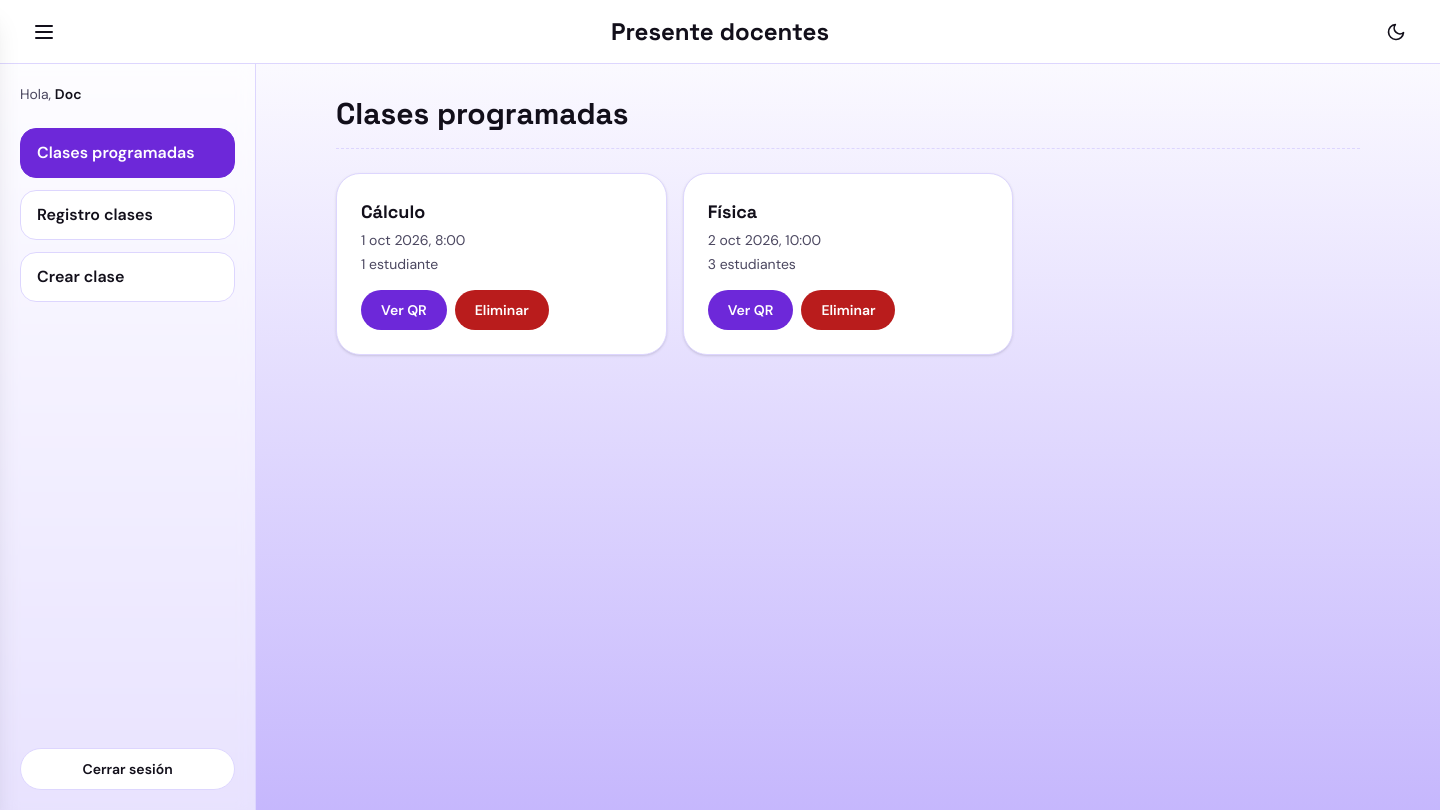
Test: PanelDocente › muestra la asistencia de una clase y permite volver
Check: the heading "Cálculo" is shown, box 361,200 -> 425,223
Step 1. Click the button "Registro clases" → click(128, 215), box 20,190 -> 235,240
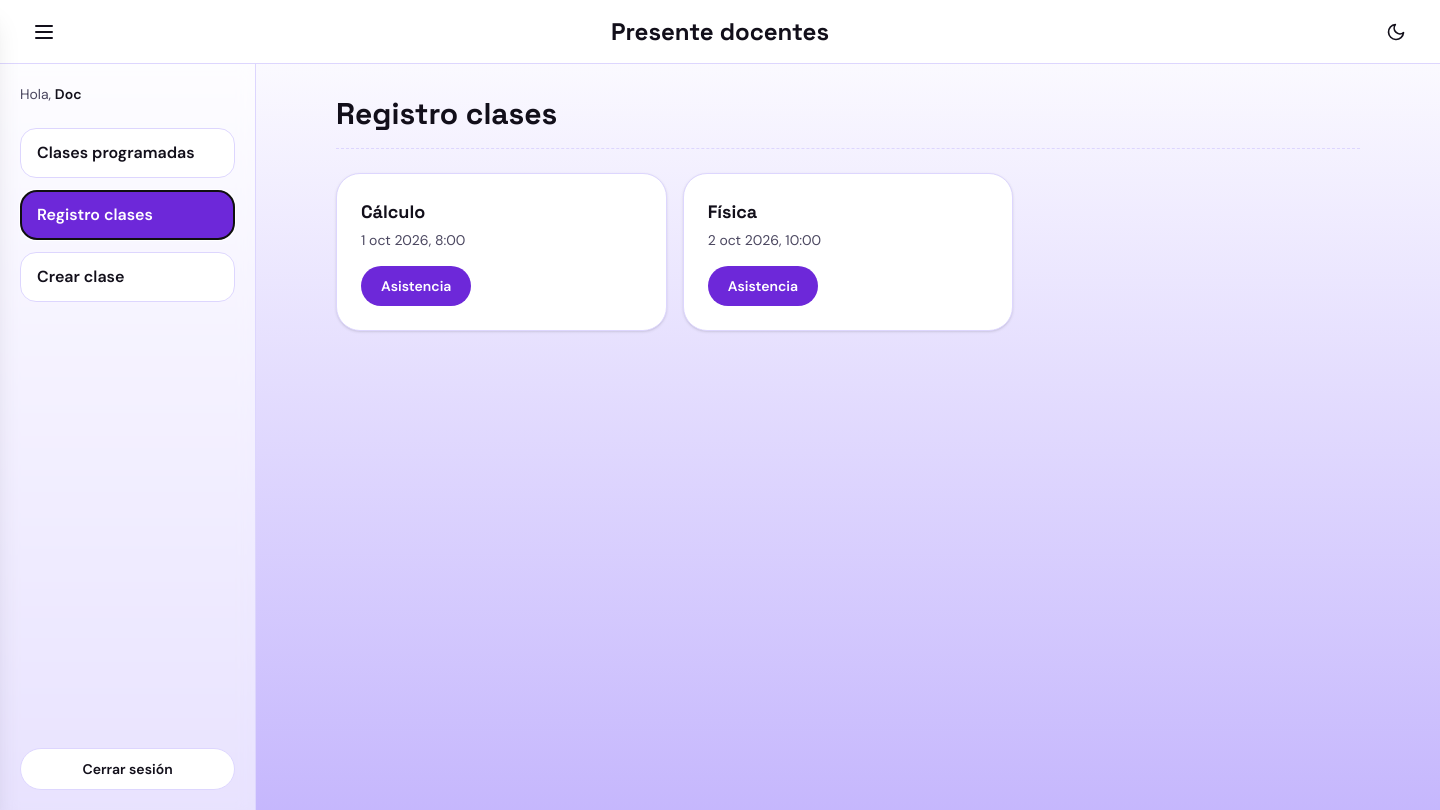
Step 2. Click the button "Asistencia" below "1 oct 2026, 8:00" → click(416, 286), box 361,266 -> 471,306
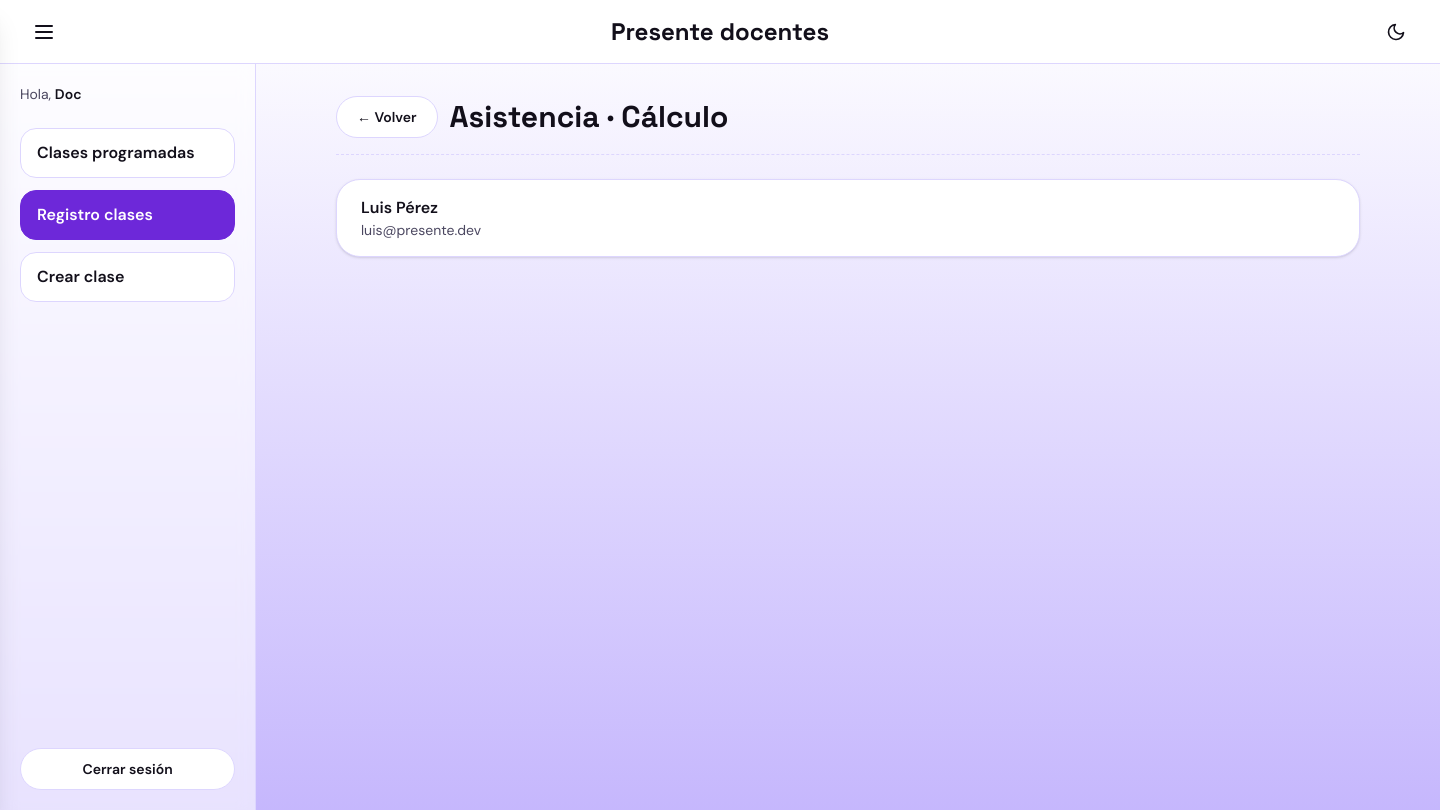
Check: the heading "Asistencia · Cálculo" is shown, box 450,99 -> 728,135
Check: the text "Luis Pérez" is shown, box 361,197 -> 438,218
Step 3. Click the button "← Volver" → click(387, 117), box 336,96 -> 438,138
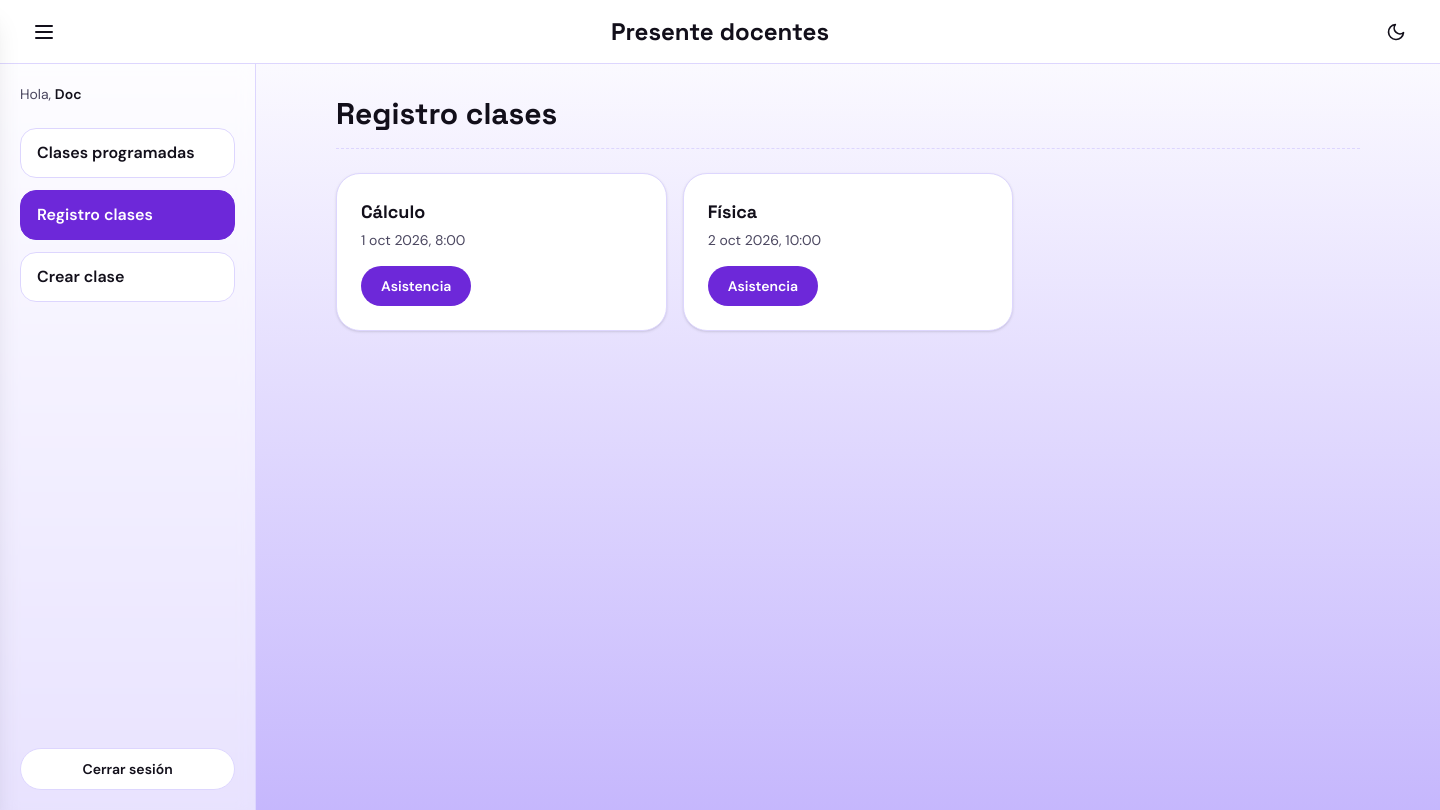
Check: the heading "Registro clases" is shown, box 336,96 -> 557,132
